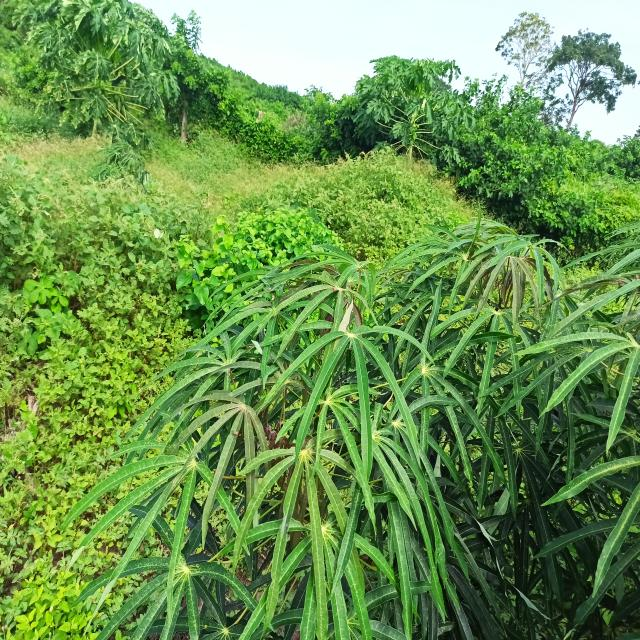Maleza: (4, 136, 220, 296), (453, 87, 640, 237), (0, 285, 124, 443), (213, 163, 473, 231), (0, 416, 79, 637), (204, 55, 328, 173)
